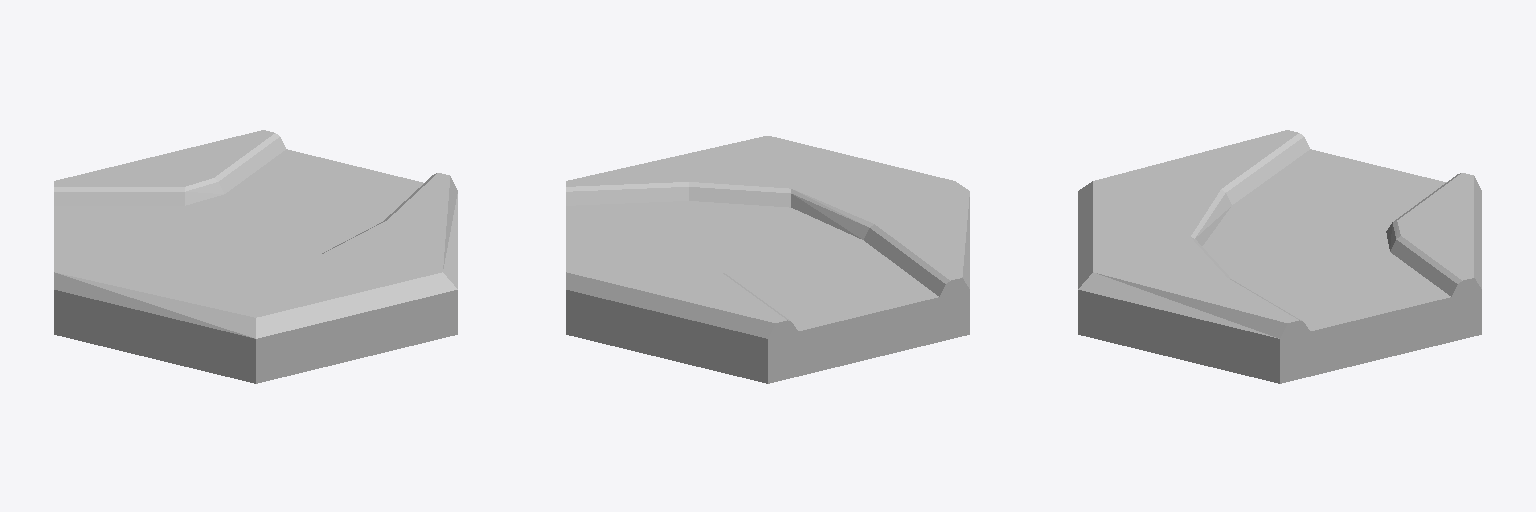
Rendered from kurve.obj.
3 renders of one model, left to right at view 1: azimuth 30°, elevation 25°; view 2: azimuth 150°, elevation 25°; view 3: azimuth 270°, elevation 25°, orthographic.
Visible parts, largest first — view 1: curve tracks uv_done_textures_needed og; view 2: curve tracks uv_done_textures_needed og; view 3: curve tracks uv_done_textures_needed og.
Part boxes in pixels (bbox=[...]): curve tracks uv_done_textures_needed og: bbox=[54, 130, 457, 383]; curve tracks uv_done_textures_needed og: bbox=[566, 136, 969, 383]; curve tracks uv_done_textures_needed og: bbox=[1078, 130, 1481, 383].
Size of the model in its own units: 2 by 0.2777 by 1.73.